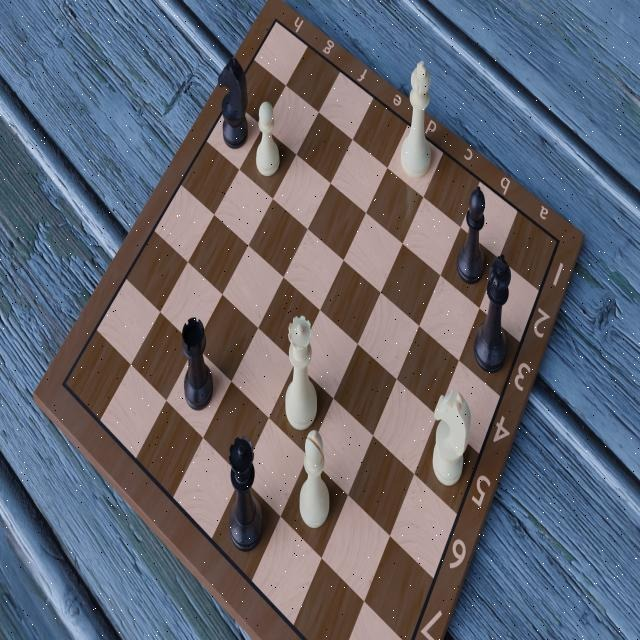black-bishop: (456, 185, 488, 291)
black-king: (472, 254, 512, 377)
black-knight: (216, 56, 251, 156)
black-queen: (225, 434, 266, 558)
black-rook: (180, 312, 216, 418)
white-bishop: (297, 422, 335, 534)
white-king: (396, 55, 436, 184)
white-knight: (431, 386, 473, 492)
white-pawn: (253, 94, 282, 182)
white-queen: (282, 309, 319, 433)
